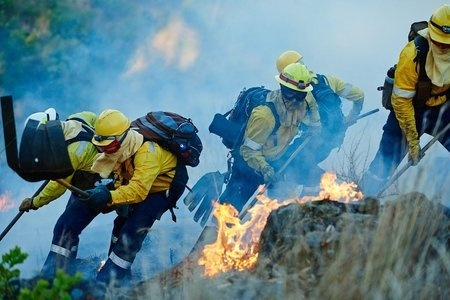fire: (196, 171, 362, 273), (121, 14, 199, 76), (97, 256, 106, 269)
